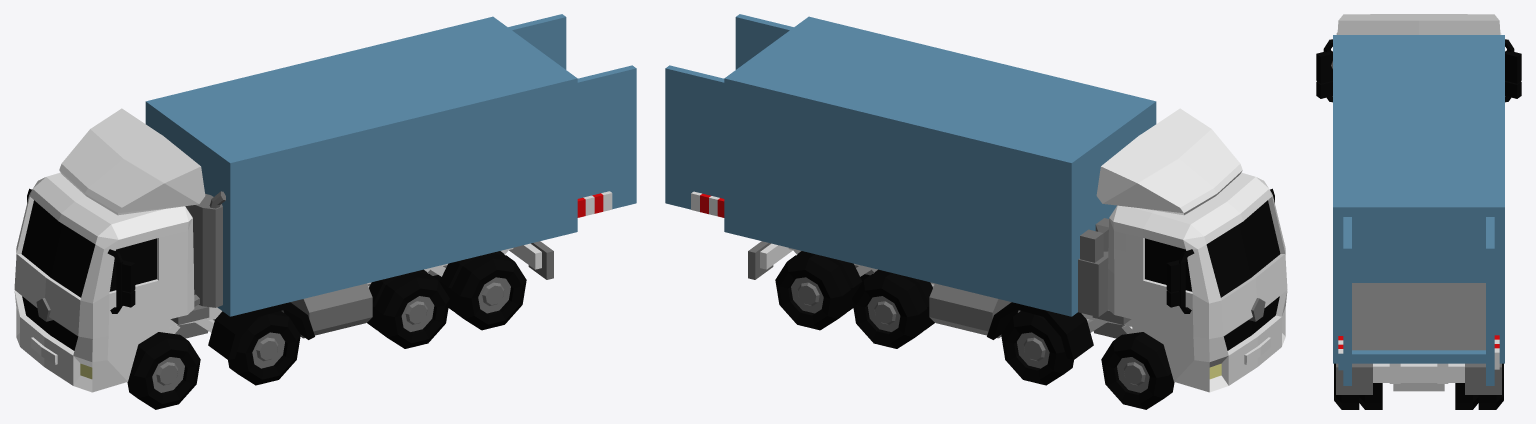
Rendered from Truck.fbx.
The picture shows the model from 3 angles, left to right: view 1: azimuth 30°, elevation 25°; view 2: azimuth 150°, elevation 25°; view 3: azimuth 270°, elevation 25°; orthographic projection.
Visible parts, largest first — view 1: Truck 1 Cargo, Truck 1 Cargo.003, Truck 1 Cargo.004; view 2: Truck 1 Cargo, Truck 1 Cargo.004, Truck 1 Cargo.003; view 3: Truck 1 Cargo, Truck 1 Cargo.003, Truck 1 Cargo.004.
Boxes of the visible parts, x1,y1,x2,y2 form: Truck 1 Cargo: (14,16,577,409); Truck 1 Cargo.003: (577,65,636,217); Truck 1 Cargo.004: (508,14,566,69); Truck 1 Cargo: (724,16,1287,409); Truck 1 Cargo.004: (665,65,724,217); Truck 1 Cargo.003: (735,14,793,69); Truck 1 Cargo: (1316,14,1521,409); Truck 1 Cargo.003: (1338,217,1351,385); Truck 1 Cargo.004: (1486,217,1499,385).
Size of the model in its own units: 9.36 by 3.77 by 2.94.
